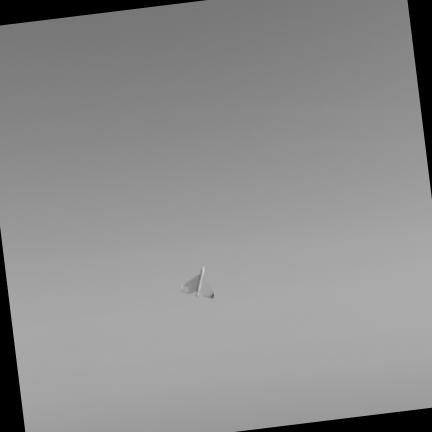Shahed: (181, 267, 214, 298)
